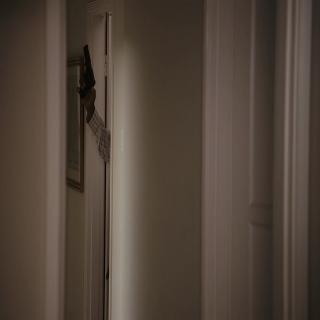gun: (76, 41, 96, 98)
